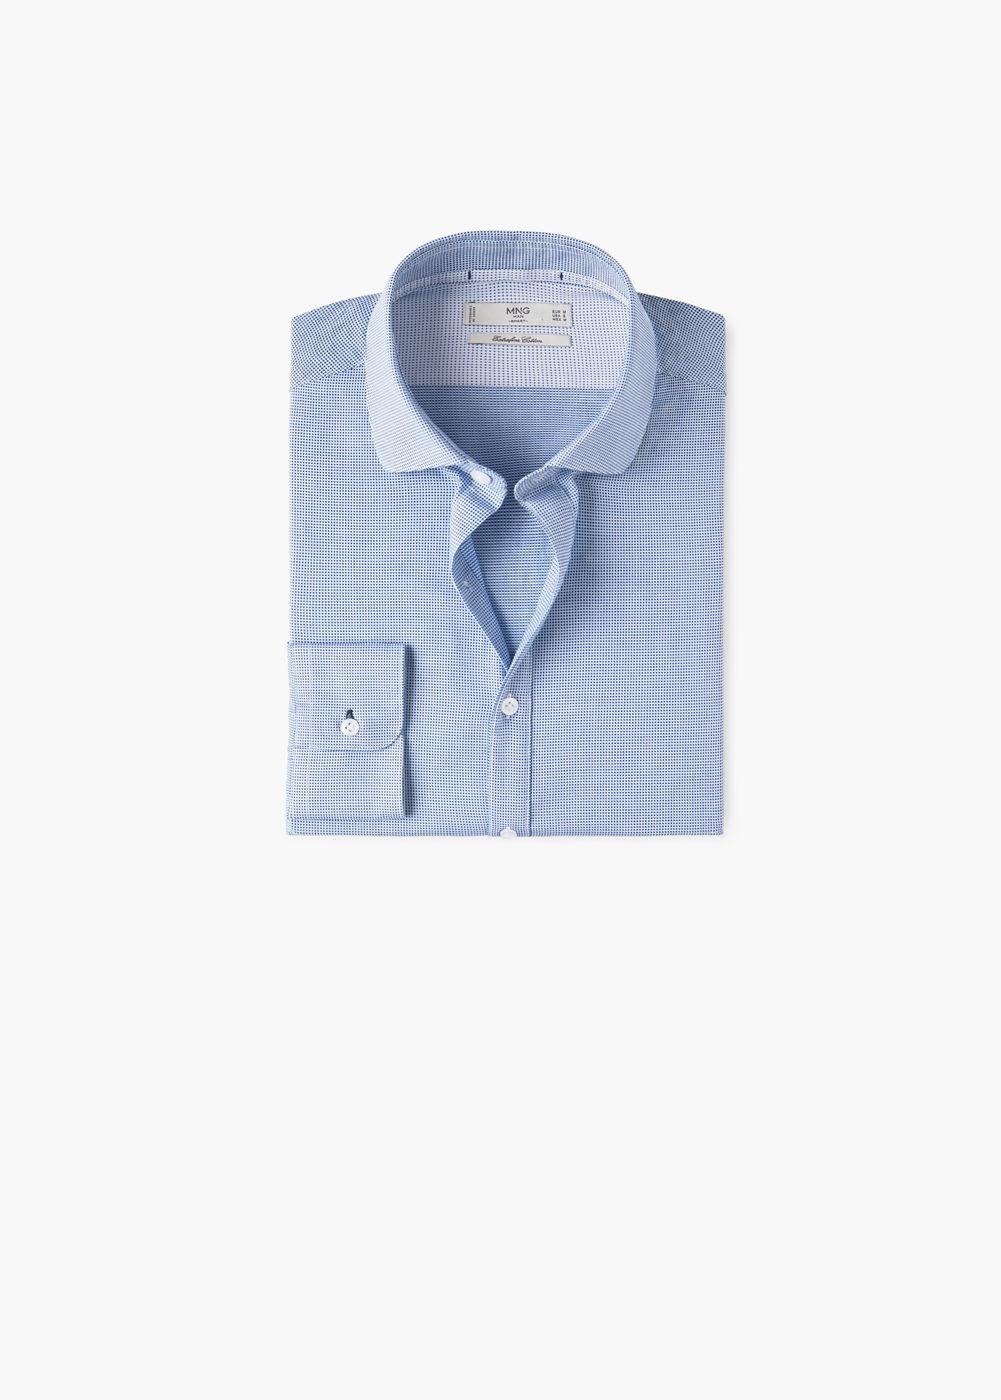teeshirt: (248, 225, 744, 872)
